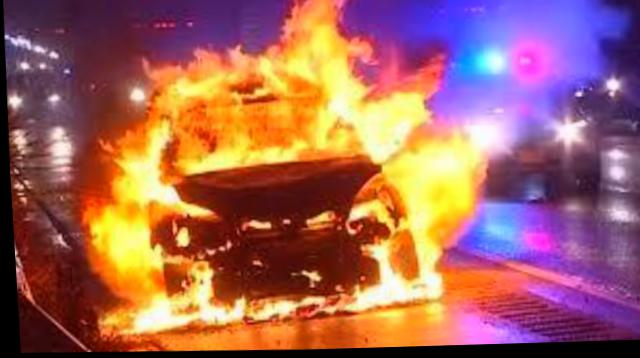fire: (40, 0, 502, 337)
